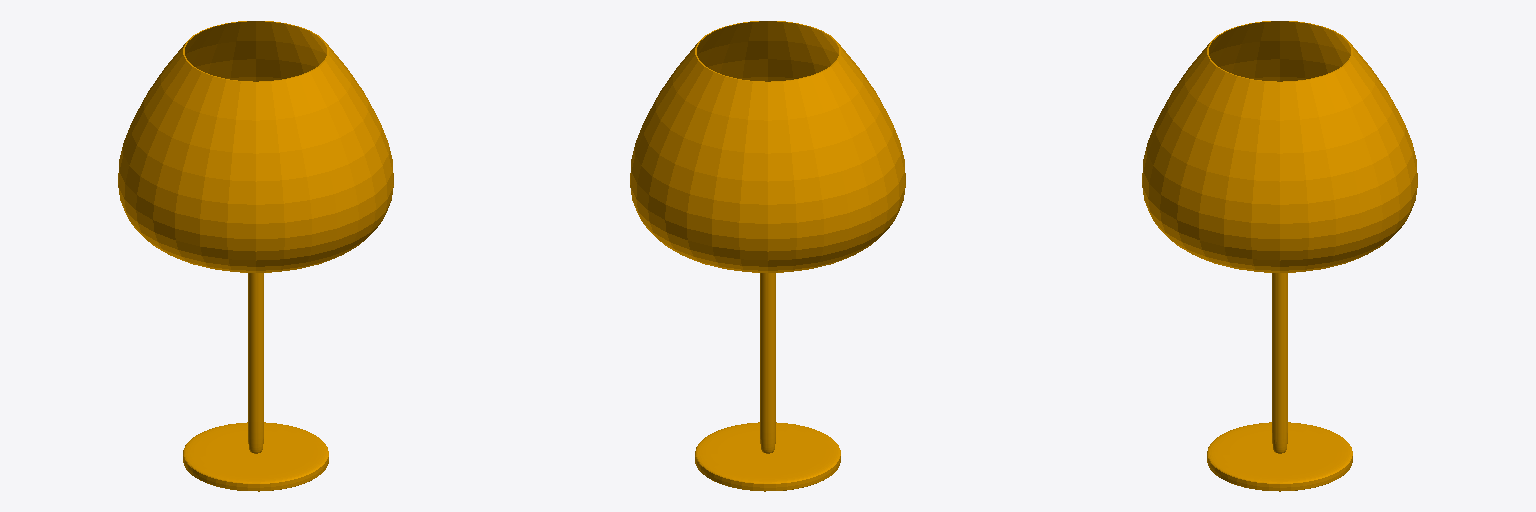
robot.urdf — object_434469980:

		<robot name="object_434469980">
			<link name="link_object_434469980">
				<visual>
					<geometry>
						<mesh filename="temp_object_434469980.obj" />
					</geometry>
				</visual>

				<collision>
					<geometry>
						<mesh filename="temp_object_434469980.obj" />
					</geometry>
				</collision>
				
				<inertial>
					<origin rpy="0 0 0" xyz="0 0 0"/>
					<mass value="0.3" />
					<inertia ixx="0.3" ixy="0" ixz="0" iyy="0.3" iyz="0" izz="0.3" />
				</inertial>
			</link>
		</robot>
		

--- What the picture shows (computed from the rendered views, not written in the file) ---
3 views of the same robot in one strip: view 1: azimuth 30°, elevation 25°; view 2: azimuth 150°, elevation 25°; view 3: azimuth 270°, elevation 25° (orthographic).
Robot: object_434469980 — 1 links, 0 joints (none); root link link_object_434469980; default pose: every joint at zero.
Links seen in each view (by area): view 1: link_object_434469980; view 2: link_object_434469980; view 3: link_object_434469980.
Boxes of the visible links, x1,y1,x2,y2 form: link_object_434469980: (118, 21, 393, 491); link_object_434469980: (630, 21, 905, 491); link_object_434469980: (1142, 21, 1417, 491).
Size in the robot's own frame: 0.1183 by 0.1176 by 0.1936 metres.
Meshes: 1 distinct files referenced, 1 mesh visuals loaded (1 OBJ).
